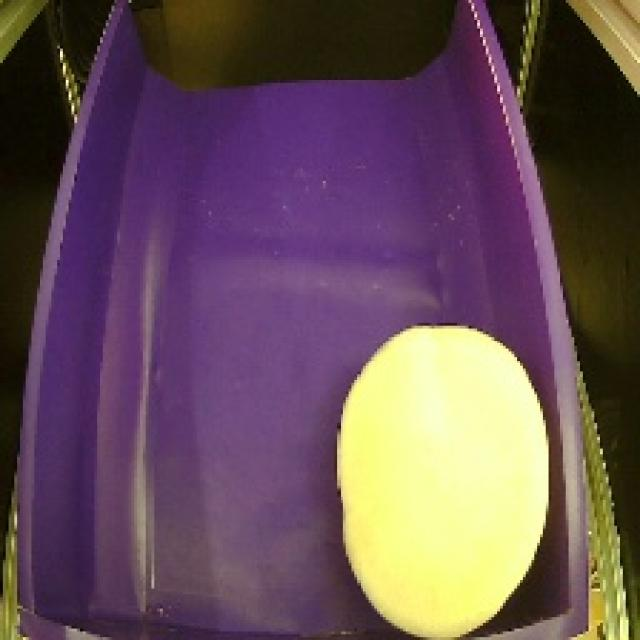white_radish: (323, 314, 560, 640)
